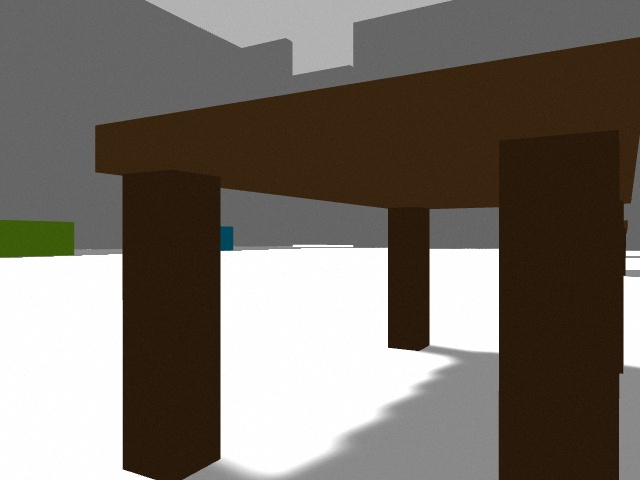blue_drop_zone: (221, 226, 233, 251)
green_drop_zone: (0, 220, 74, 257)
